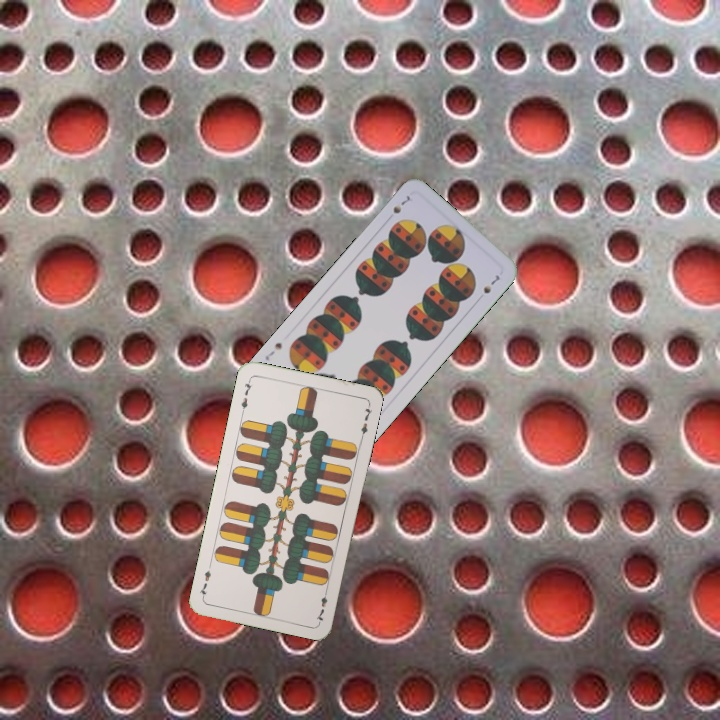E7: (312, 584, 331, 624), (237, 375, 255, 415)
S7: (389, 191, 413, 216)
